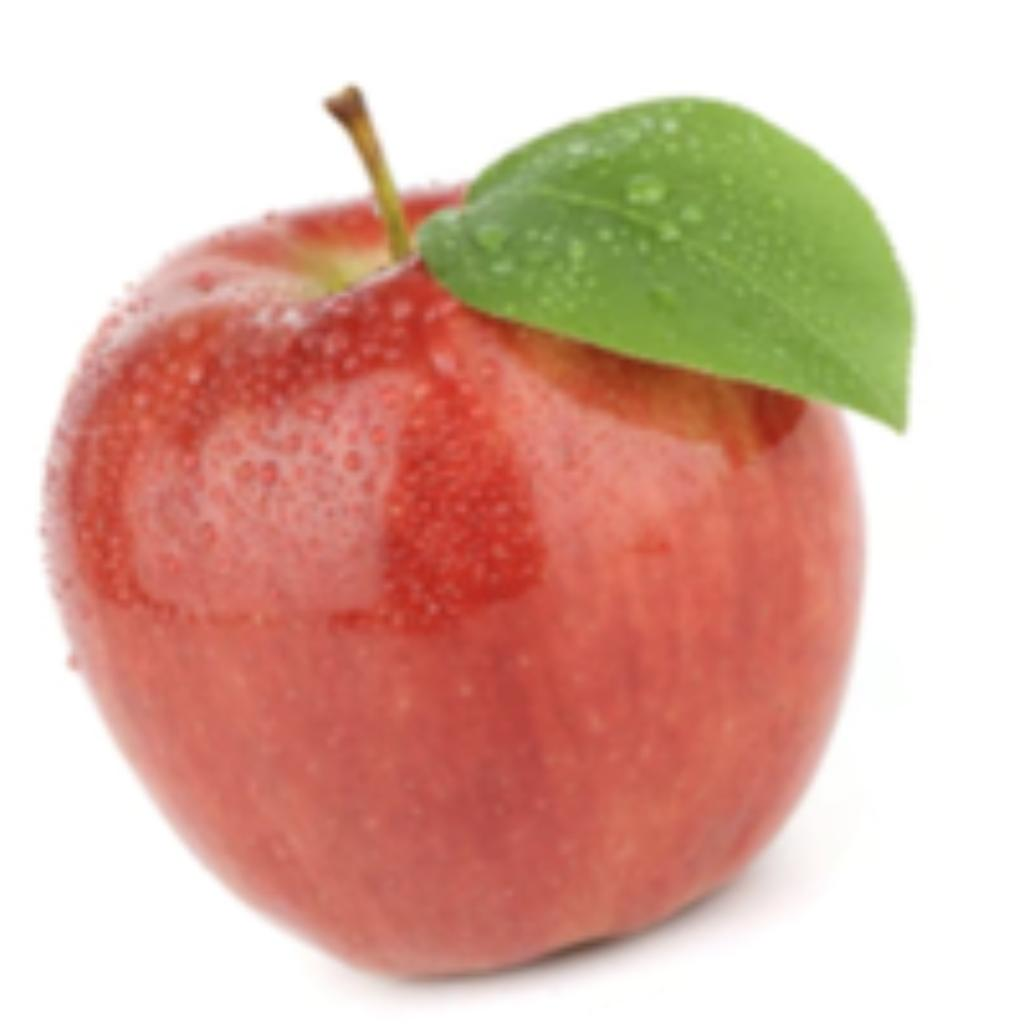apple: (31, 77, 922, 1014)
